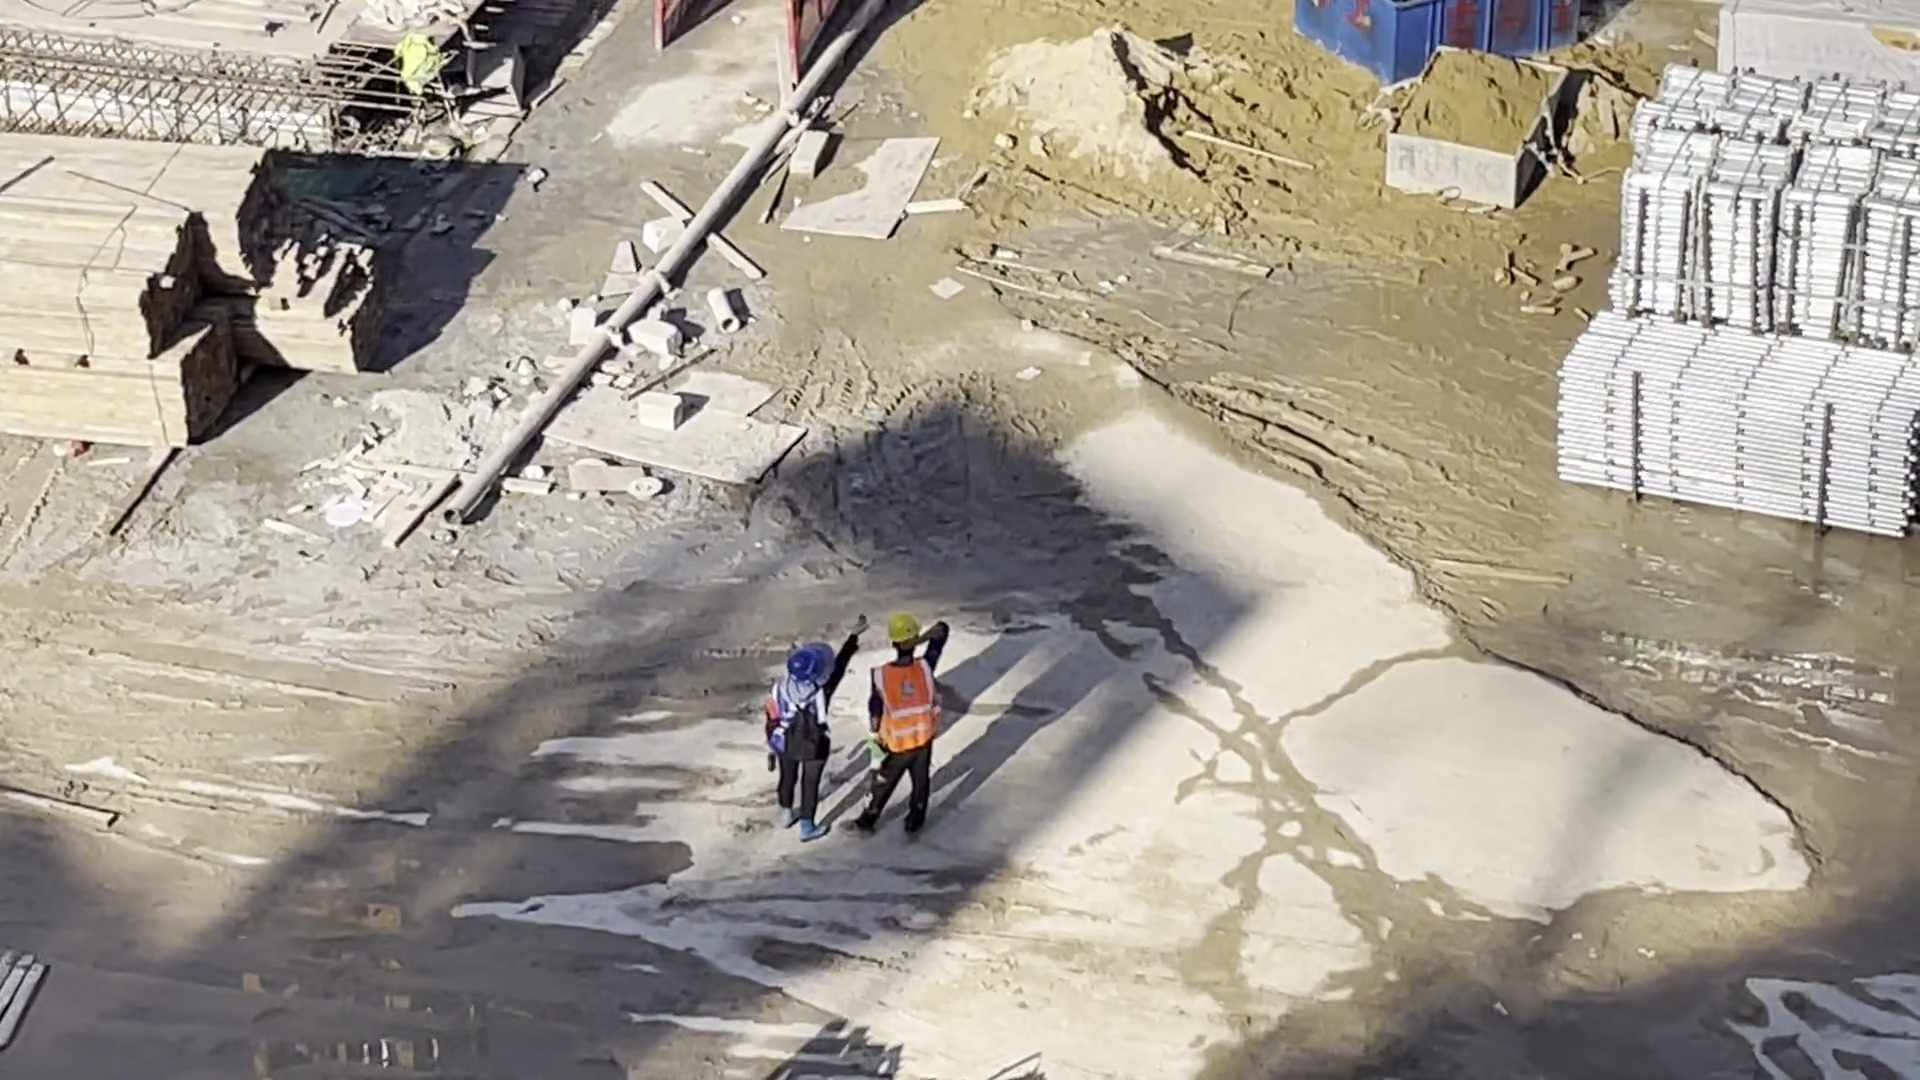fence: (659, 3, 835, 60)
helmet: (787, 652, 823, 683), (889, 614, 923, 640)
hopper: (1386, 49, 1573, 210), (1294, 1, 1582, 83)
person: (862, 618, 939, 841), (770, 638, 836, 845)
scaffold: (1558, 314, 1915, 546), (1621, 80, 1919, 356)
vest: (869, 656, 932, 749), (782, 683, 820, 724)
wood: (1, 140, 277, 446)
